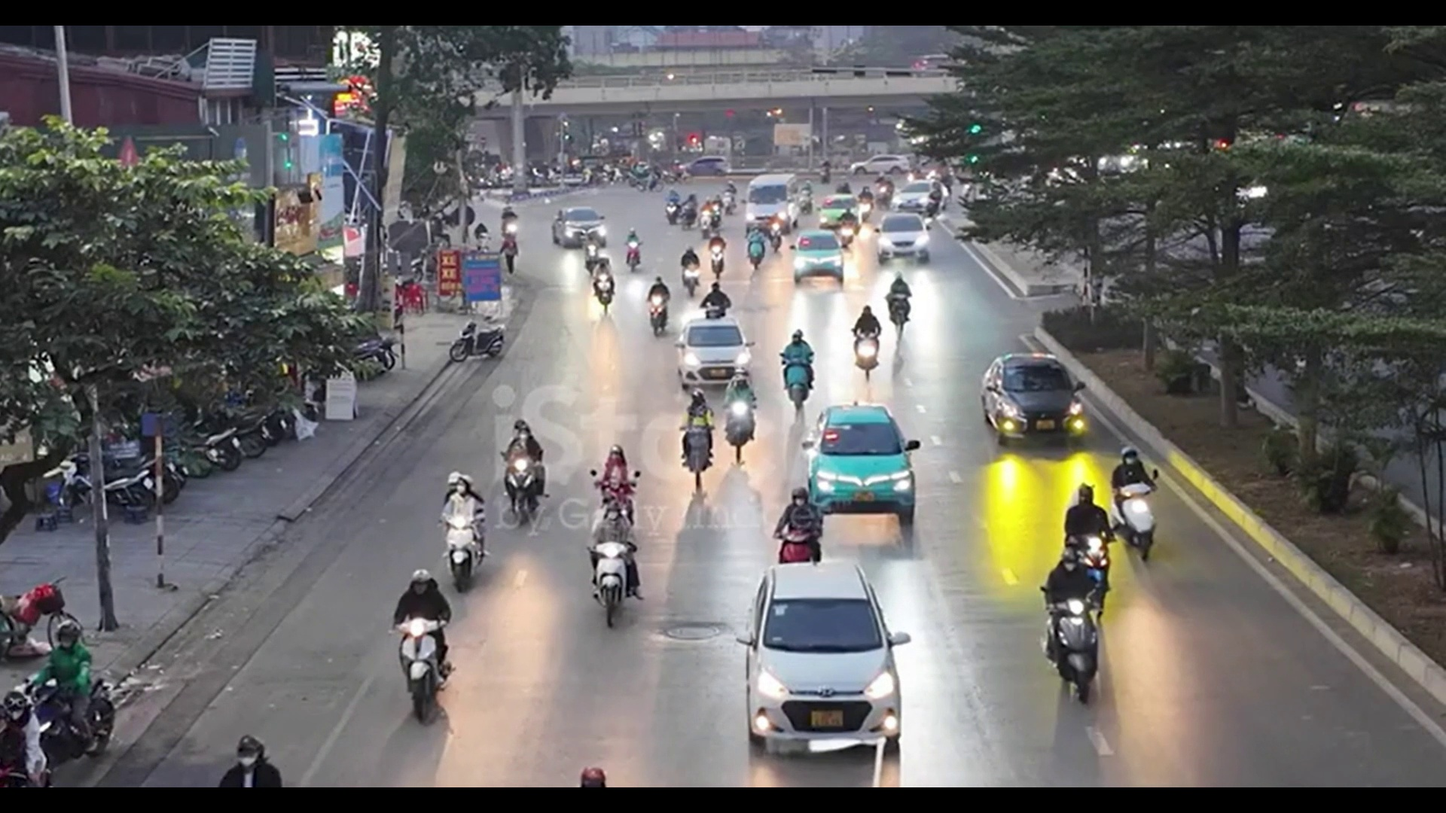car: (743, 559, 907, 759), (805, 403, 917, 523), (980, 354, 1084, 443), (677, 320, 750, 389), (789, 229, 846, 285), (551, 204, 611, 250), (880, 213, 933, 263)
motorcycle: (11, 664, 123, 784), (1044, 595, 1104, 705), (394, 617, 454, 726), (589, 536, 643, 629), (443, 529, 485, 593)
